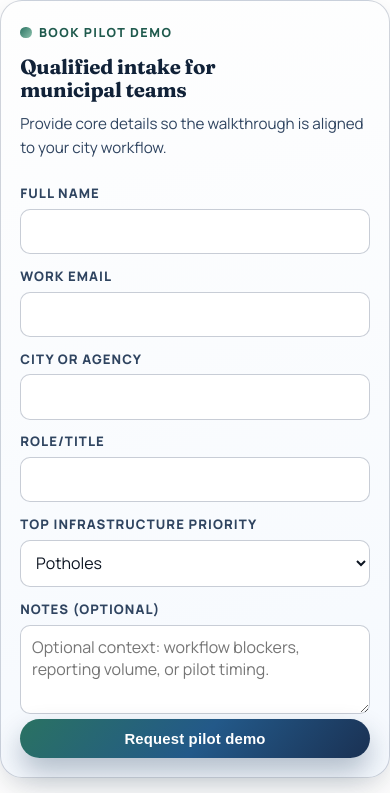
LeadForm › shows validation errors on invalid submit
Click the button "Request pilot demo".
click(195, 738)  # box x1=20 y1=719 x2=370 y2=758
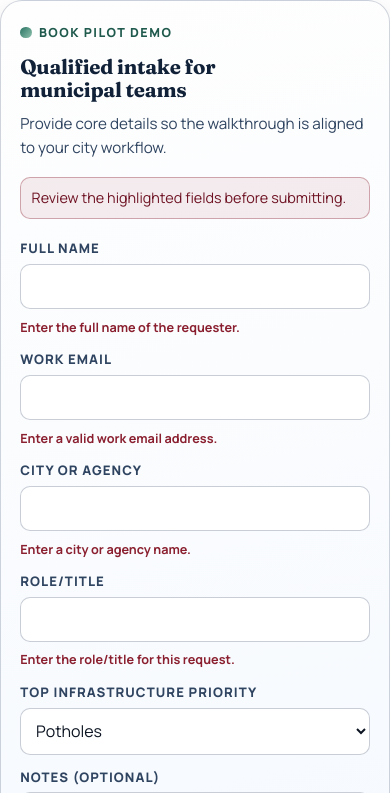
Expected: the text "Review the highlighted fields before submitting." is shown, x1=32 y1=187 x2=358 y2=209
